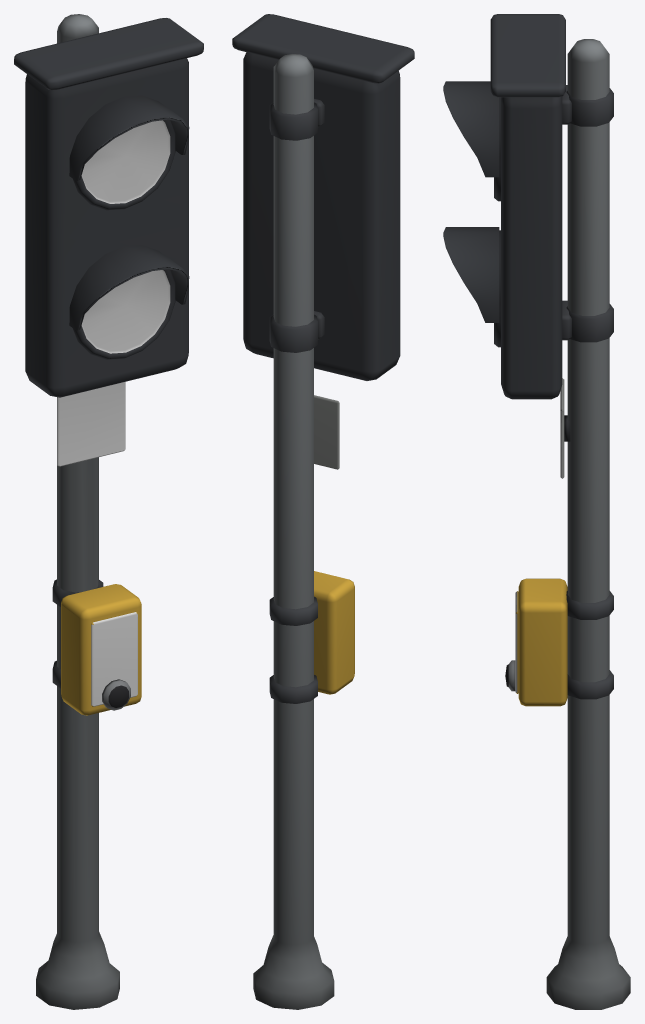
The model's file is PedSignal.fbx.
3 renders of one model, left to right at view 1: azimuth 30°, elevation 25°; view 2: azimuth 150°, elevation 25°; view 3: azimuth 270°, elevation 25°, orthographic. The views are drawn at different scales.
Parts seen in each view (by area): view 1: PedSignal; view 2: PedSignal; view 3: PedSignal.
Part boxes in pixels (x1,y1,x2,y2): PedSignal: [14, 14, 203, 1009]; PedSignal: [232, 14, 414, 1009]; PedSignal: [443, 14, 630, 1009].
Bounding box in the file's own units: 0.51 × 3 × 0.535.
